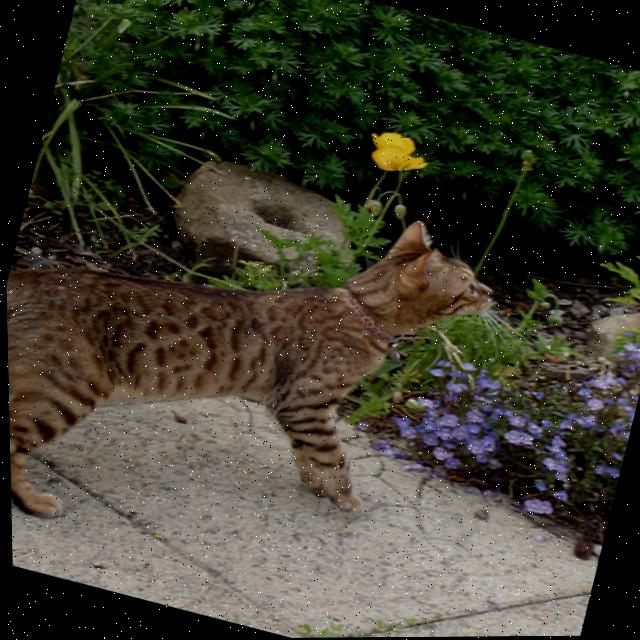Bengal: (2, 110, 522, 626)
